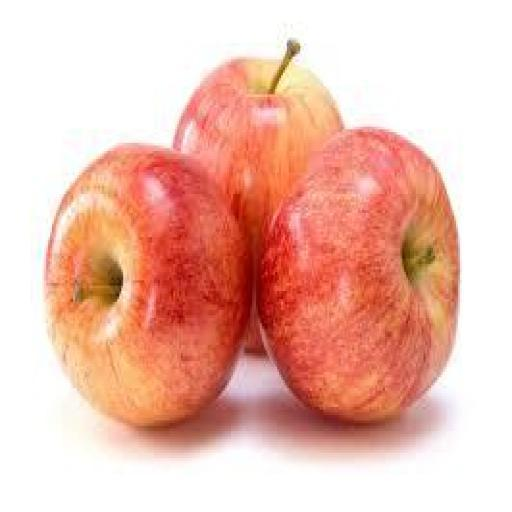apple: (258, 130, 460, 420), (45, 146, 252, 425), (174, 41, 342, 272)
